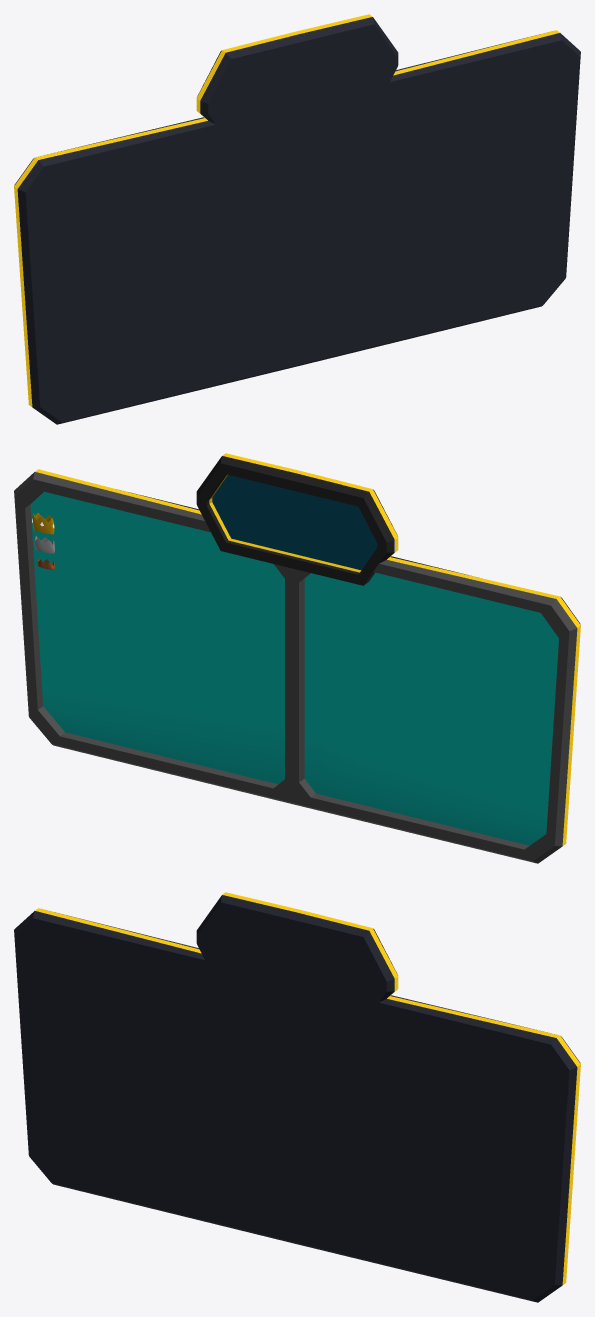
The model's file is scoreboard.01.gltf.
The picture shows the model from 3 angles, top to bottom: view 1: azimuth 30°, elevation 25°; view 2: azimuth 150°, elevation 25°; view 3: azimuth 330°, elevation 25°; orthographic projection.
Visible parts, largest first — view 1: scoreboard.01; view 2: scoreboard.01; view 3: scoreboard.01.
Boxes of the visible parts, box(x1,y1,x2,y2) form: scoreboard.01: box(14, 14, 580, 424); scoreboard.01: box(14, 453, 580, 863); scoreboard.01: box(14, 892, 580, 1302).
Bounding box in the file's own units: 6.05 × 3.41 × 0.1998.
Materials: 2 (2 with a texture image).
